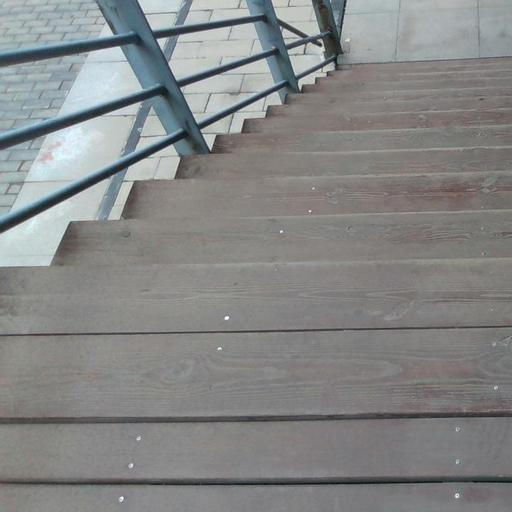stairs: (0, 59, 511, 511)
